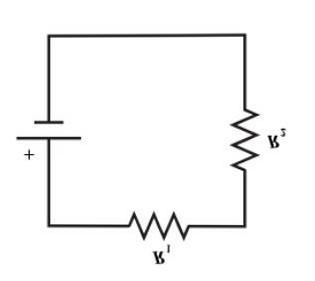Battery: (11, 110, 104, 173)
